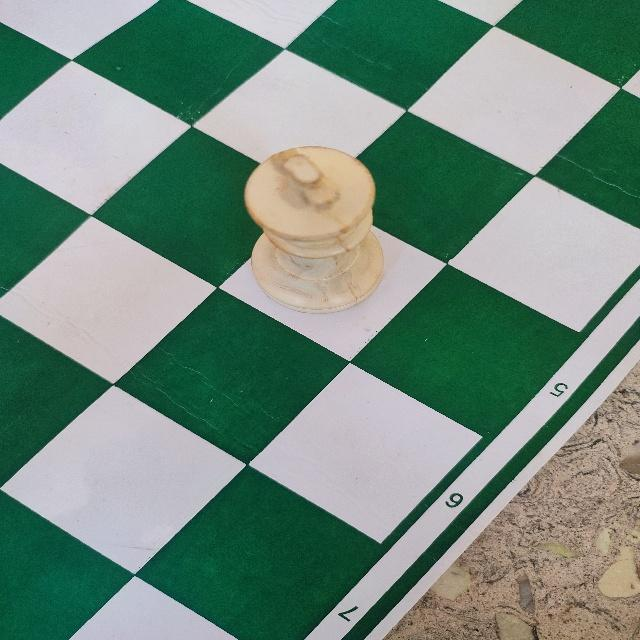King: (240, 142, 388, 317)
